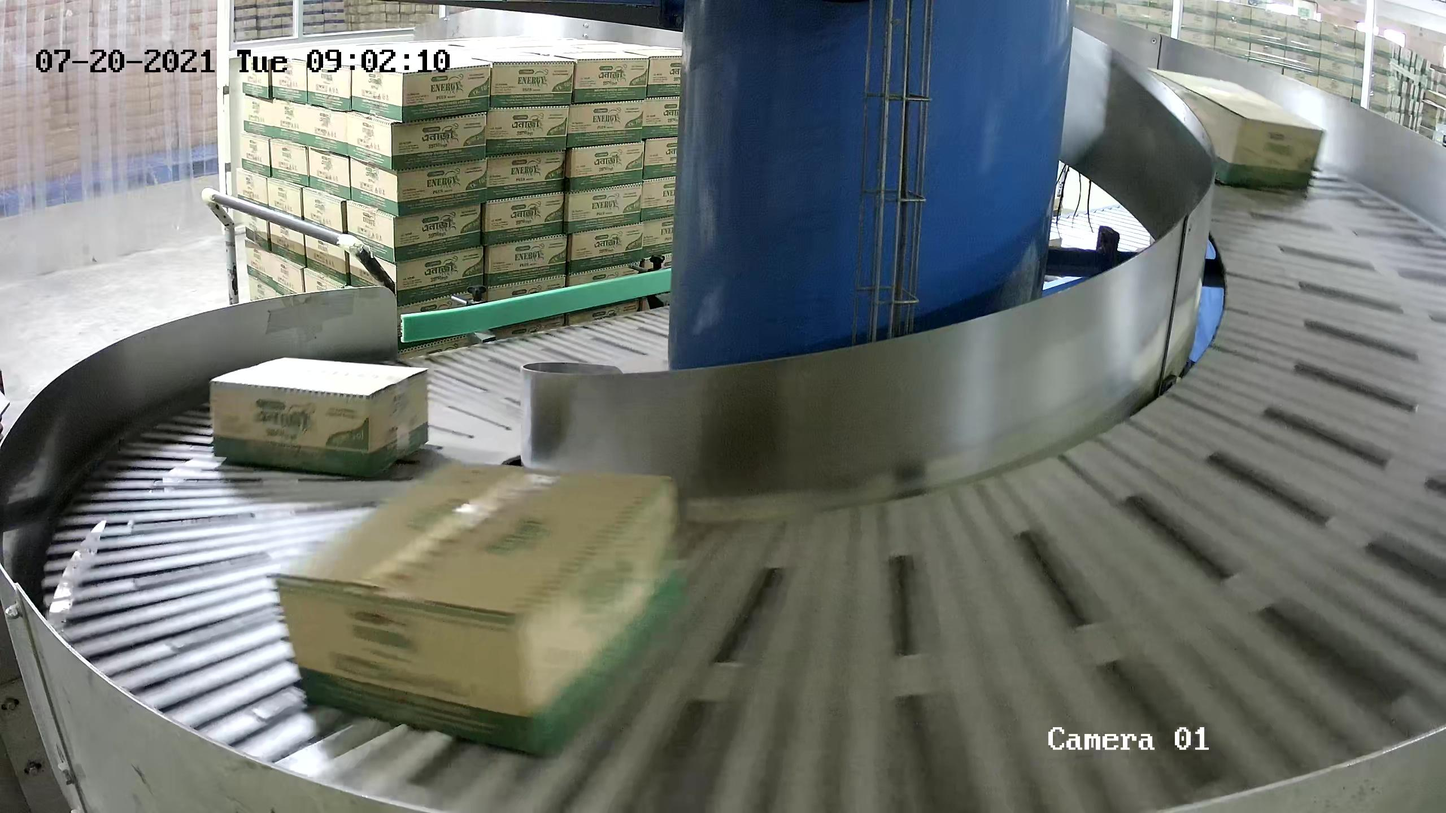Box: (269, 456, 683, 763), (211, 356, 430, 481), (1144, 67, 1325, 196)
